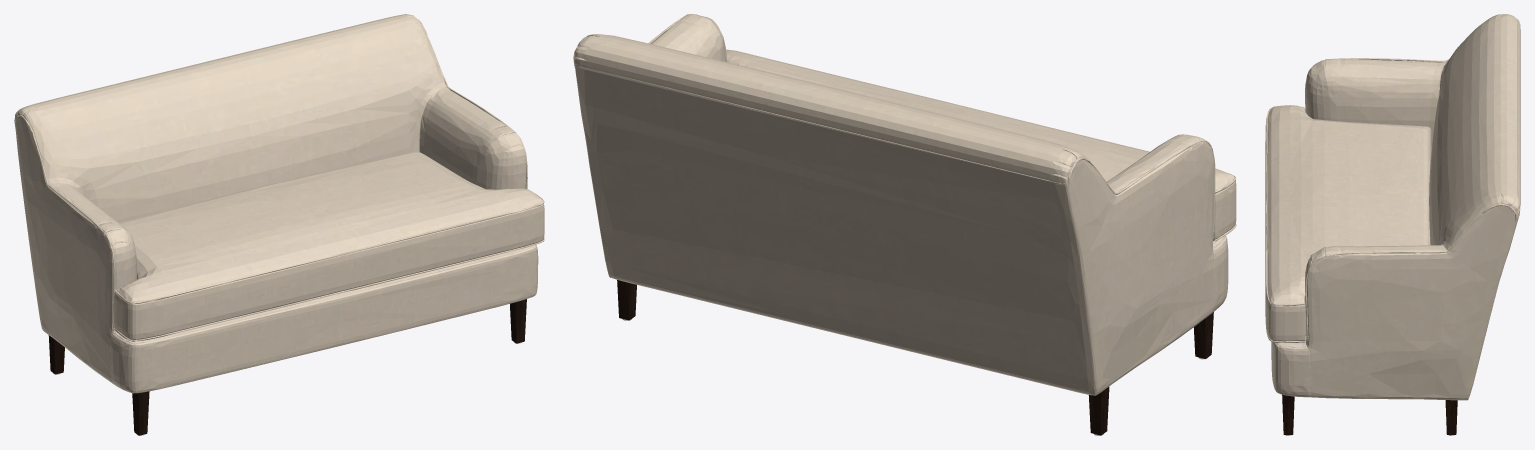
3 views of the same model, side by side, from view 1: azimuth 30°, elevation 25°; view 2: azimuth 150°, elevation 25°; view 3: azimuth 270°, elevation 25° (orthographic). The views are drawn at different scales.
Parts seen in each view (by area): view 1: 09508853_armchair:3; view 2: 09508853_armchair:3; view 3: 09508853_armchair:3.
Boxes of the visible parts, x1,y1,x2,y2 form: 09508853_armchair:3: (14,14,544,435); 09508853_armchair:3: (573,14,1236,435); 09508853_armchair:3: (1265,14,1520,435).
Bounding box in the file's own units: 1.42 × 0.8001 × 0.7701.
Materials: 1 (1 with a texture image).
